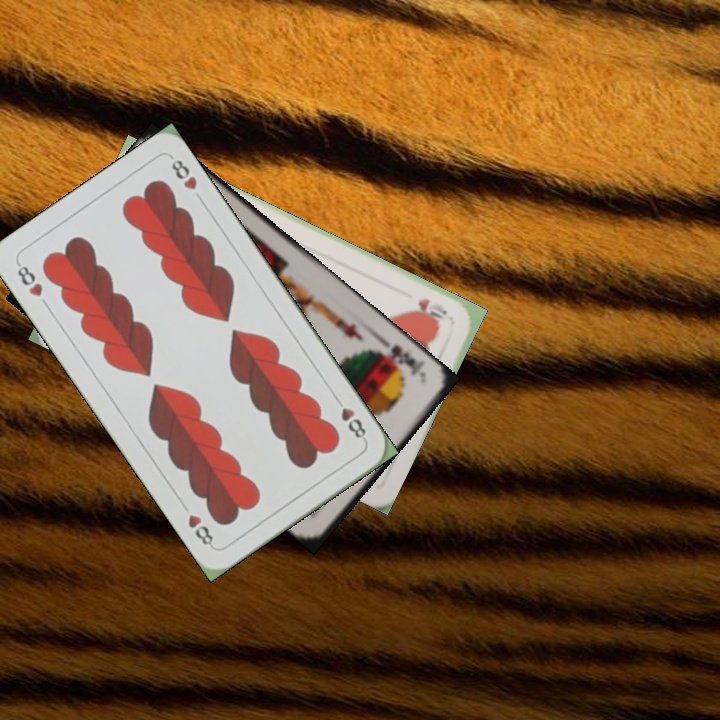H8: (330, 392, 369, 444), (12, 258, 45, 300)
HO: (413, 294, 451, 324)
SK: (373, 340, 429, 383)
